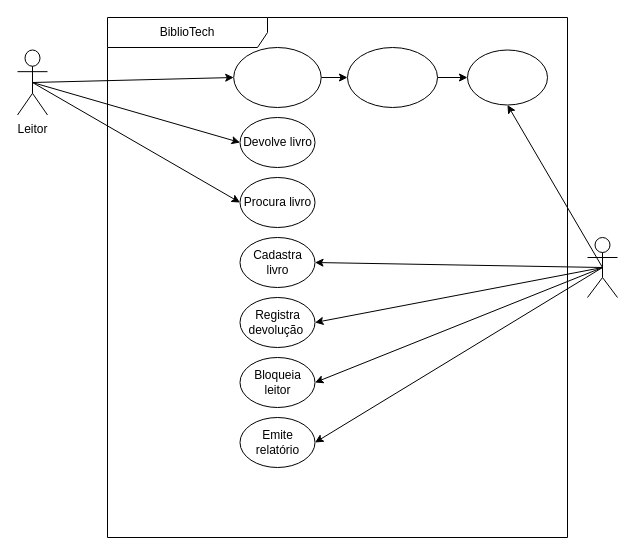
Some shapes in this 635 by 555 pixel diagram are drawn without their labels. Here are the shapes that lost their labels. From the top down, the centre of each, then its label:
At (277,77): "Emprestar Livro".
At (392,77): "Gera Código do emprestimo".
At (507,77): "Confirma código de emprestimo".
At (602,267): "Actor".
